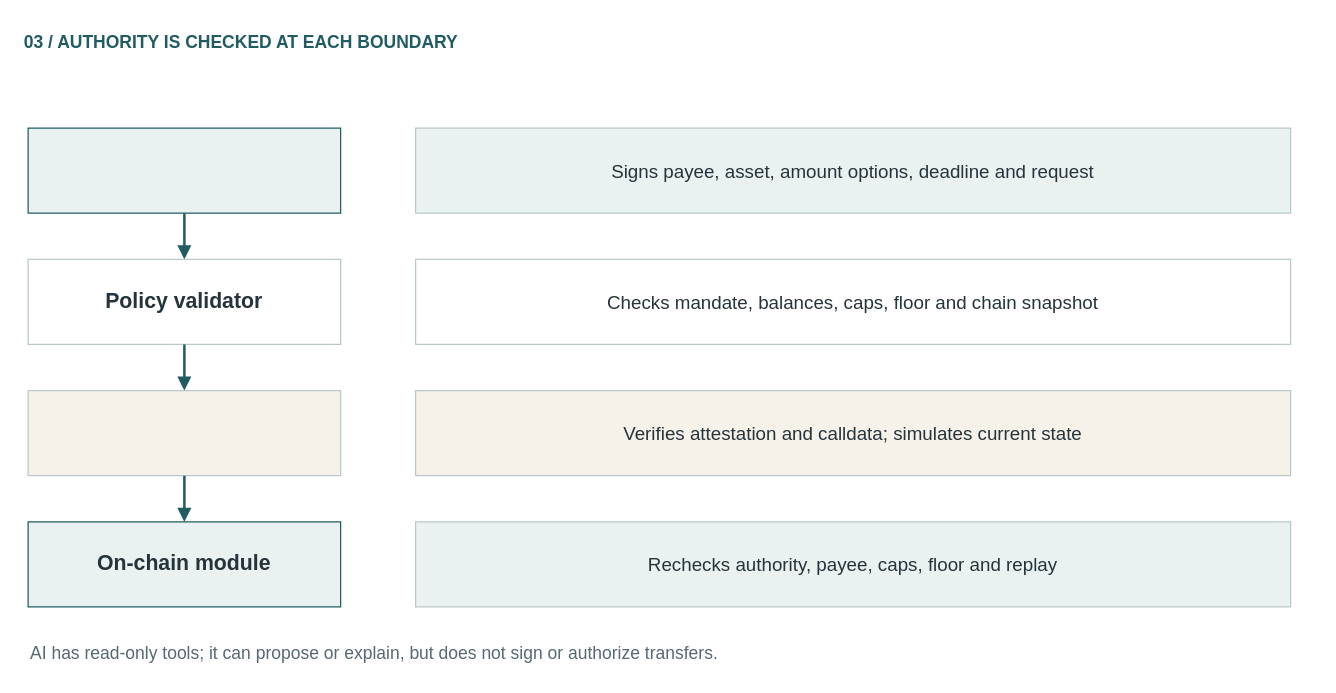
Some shapes in this 1336 by 693 pixel diagram are drawn without their labels. Here are the shapes that lost their labels. From the top down, the box of each, then its label:
(27, 127, 341, 213): Human approver
(27, 389, 341, 476): Isolated signer
